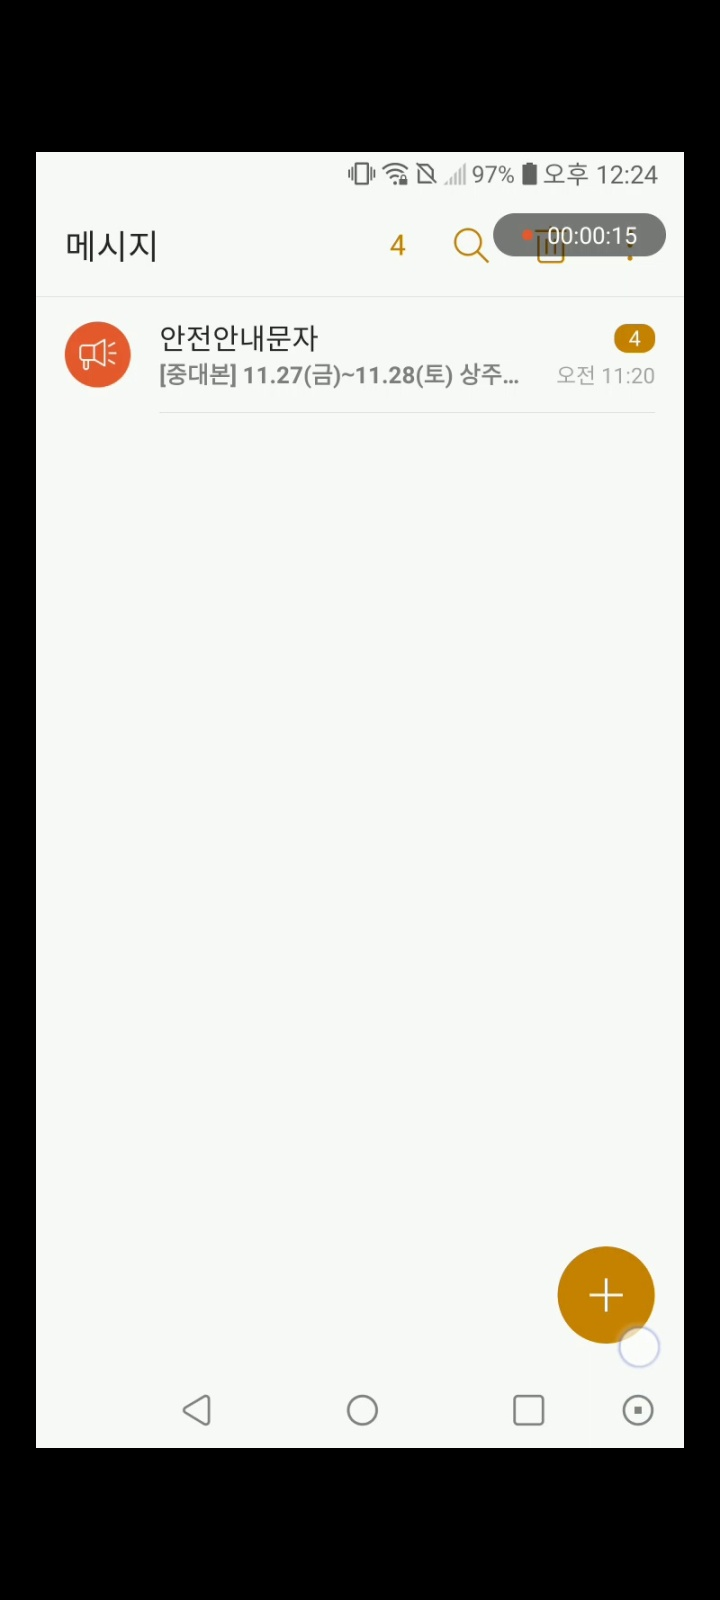Cursor: (618, 1324, 663, 1370)
